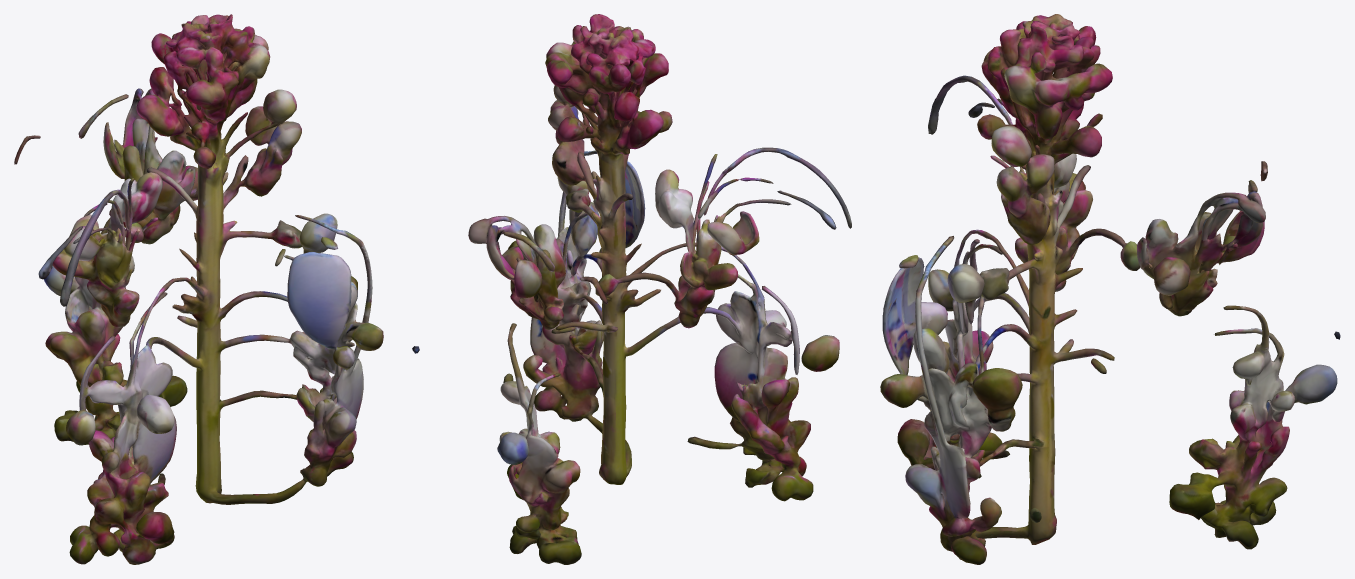
File: shrub0040.gltf
3 renders of one model, left to right at view 1: azimuth 30°, elevation 25°; view 2: azimuth 150°, elevation 25°; view 3: azimuth 270°, elevation 25°, orthographic. The views are drawn at different scales.
Parts seen in each view (by area): view 1: Mesh_0.040; view 2: Mesh_0.040; view 3: Mesh_0.040.
Boxes of the visible parts, box(x1,y1,x2,y2) form: Mesh_0.040: box(14, 14, 383, 564); Mesh_0.040: box(412, 14, 851, 564); Mesh_0.040: box(880, 14, 1340, 564).
Bounding box in the file's own units: 1.41 × 1.99 × 1.56.
Materials: 1 (1 with a texture image).
